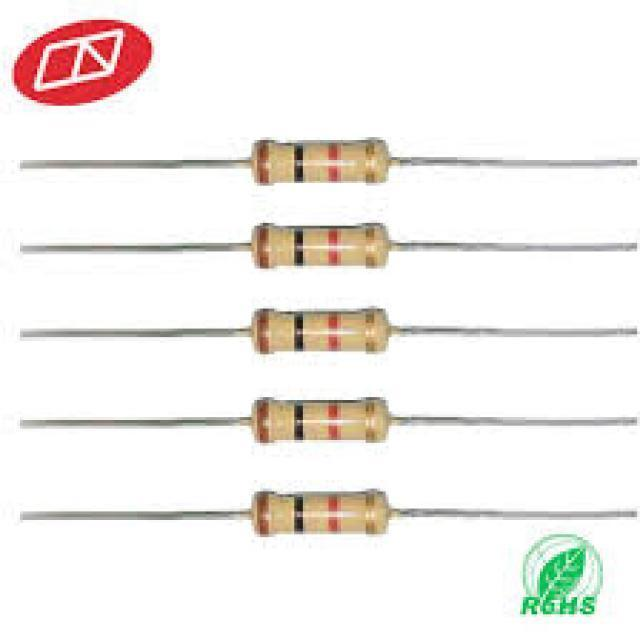Resistor Carbon-Film: (251, 137, 391, 185), (251, 225, 393, 271), (251, 398, 392, 444), (251, 308, 392, 354), (252, 492, 392, 537)
